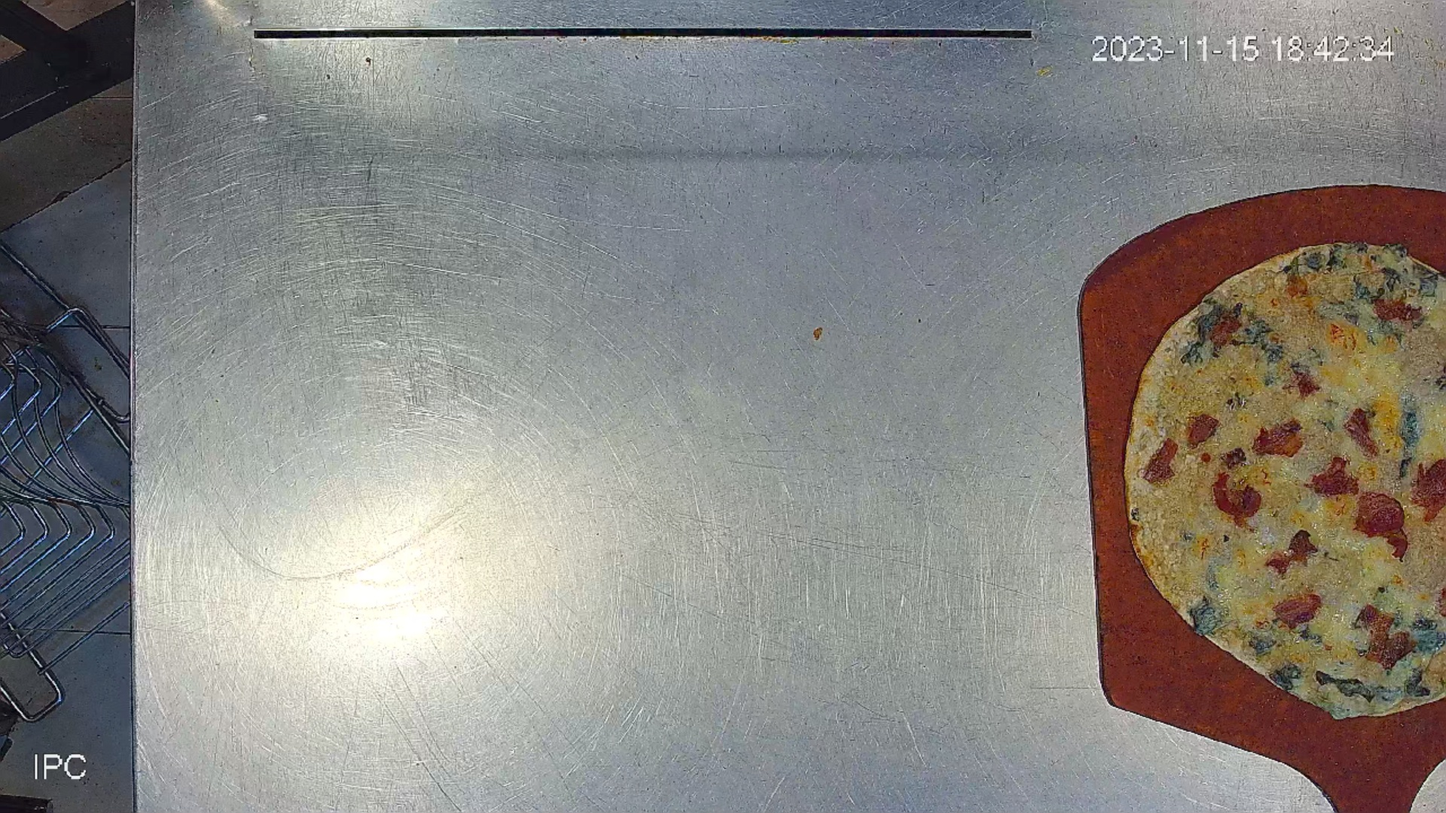pepporoni: (1121, 239, 1446, 716)
